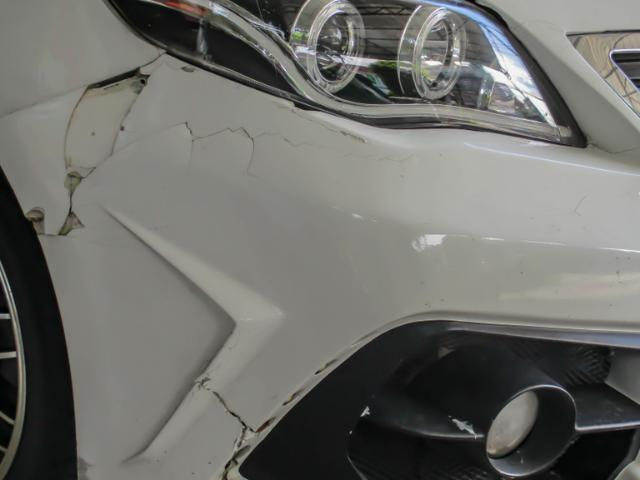Bumper: (30, 61, 343, 480)
